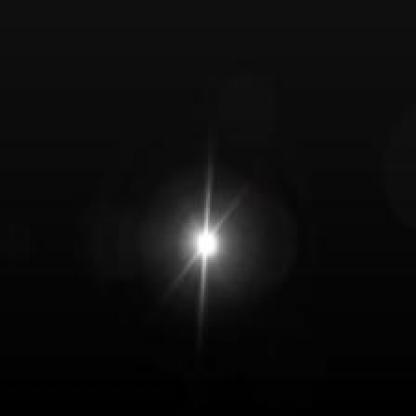other: (181, 216, 236, 287)
